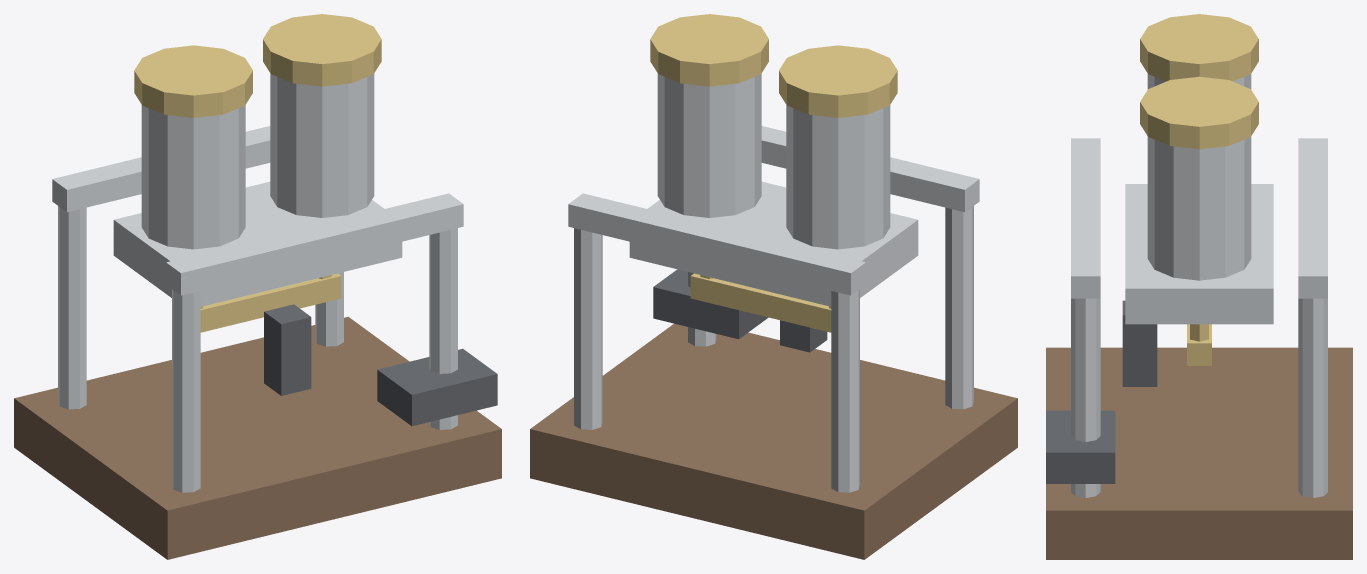
File: hot-air-balloon-festival-balloon-burner-unit-e39277ec__38473.glb
3 renders of one model, left to right at view 1: azimuth 30°, elevation 25°; view 2: azimuth 150°, elevation 25°; view 3: azimuth 270°, elevation 25°, orthographic.
Parts seen in each view (by area): view 1: balloon-burner-unit-leather, burner-spare/steel, balloon-burner-unit-steel, burner-spare/brass, balloon-burner-unit-charcoal, burner-spare/charcoal; view 2: balloon-burner-unit-leather, burner-spare/steel, balloon-burner-unit-steel, burner-spare/brass, balloon-burner-unit-charcoal, burner-spare/charcoal; view 3: balloon-burner-unit-leather, burner-spare/steel, balloon-burner-unit-steel, burner-spare/brass, balloon-burner-unit-charcoal, burner-spare/charcoal.
Part boxes in pixels (x1,y1,x2,y2): balloon-burner-unit-leather: [14, 316, 501, 559]; burner-spare/steel: [113, 73, 402, 306]; balloon-burner-unit-steel: [52, 126, 463, 492]; burner-spare/brass: [134, 14, 381, 332]; balloon-burner-unit-charcoal: [377, 348, 497, 426]; burner-spare/charcoal: [264, 304, 311, 395]; balloon-burner-unit-leather: [530, 323, 1017, 559]; burner-spare/steel: [629, 73, 918, 306]; balloon-burner-unit-steel: [568, 126, 979, 492]; burner-spare/brass: [650, 14, 897, 332]; balloon-burner-unit-charcoal: [653, 269, 768, 339]; burner-spare/charcoal: [780, 320, 827, 352]; balloon-burner-unit-leather: [1046, 347, 1352, 559]; burner-spare/steel: [1125, 74, 1273, 324]; balloon-burner-unit-steel: [1071, 138, 1327, 497]; burner-spare/brass: [1140, 14, 1258, 365]; balloon-burner-unit-charcoal: [1046, 410, 1115, 483]; burner-spare/charcoal: [1122, 300, 1157, 386].
Bounding box in the file's own units: 0.78 × 0.91 × 0.62.
